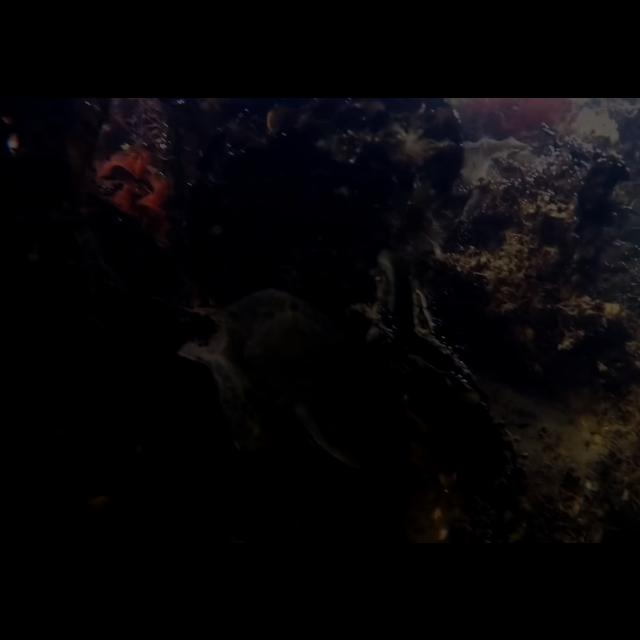Oyster-Closed: (219, 288, 389, 470)
Oyster-Open: (349, 246, 491, 408)
